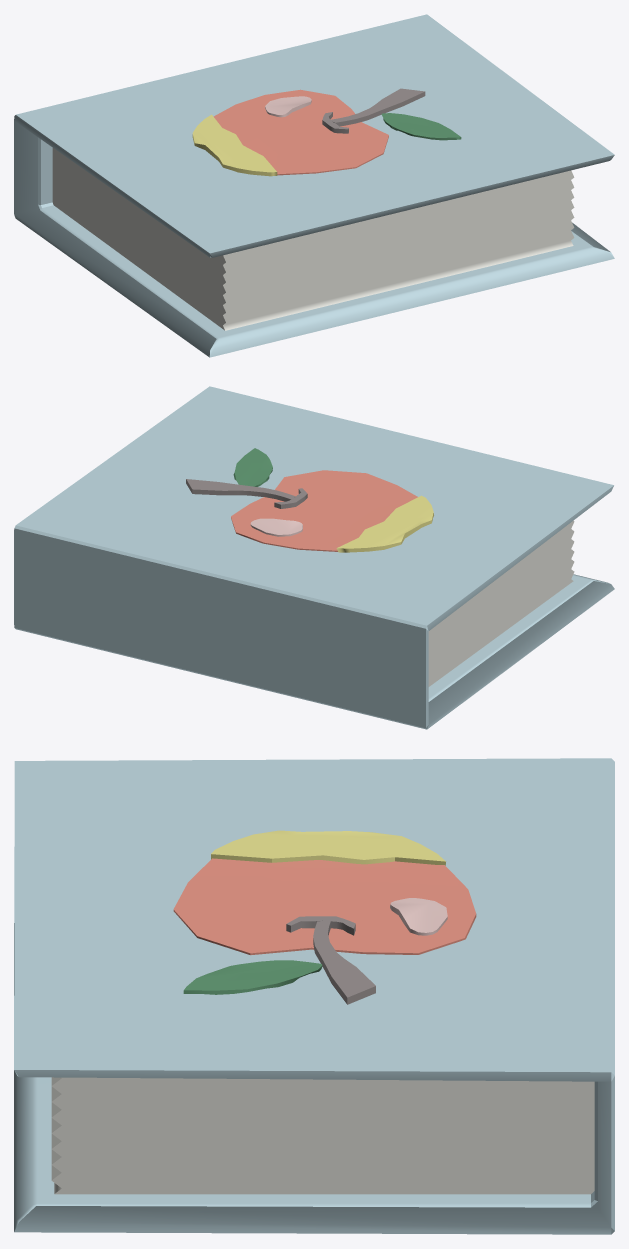
File: book.fbx
3 renders of one model, top to bottom at view 1: azimuth 30°, elevation 25°; view 2: azimuth 150°, elevation 25°; view 3: azimuth 270°, elevation 25°, orthographic. The views are drawn at different scales.
Visible parts, largest first — view 1: pasted__pasted__pasted__pCube13; view 2: pasted__pasted__pasted__pCube13; view 3: pasted__pasted__pasted__pCube13.
Part boxes in pixels (x1,y1,x2,y2): pasted__pasted__pasted__pCube13: (14, 14, 614, 357); pasted__pasted__pasted__pCube13: (14, 386, 614, 729); pasted__pasted__pasted__pCube13: (14, 758, 614, 1234).
Bounding box in the file's own units: 7.18 × 1.81 × 5.77.
